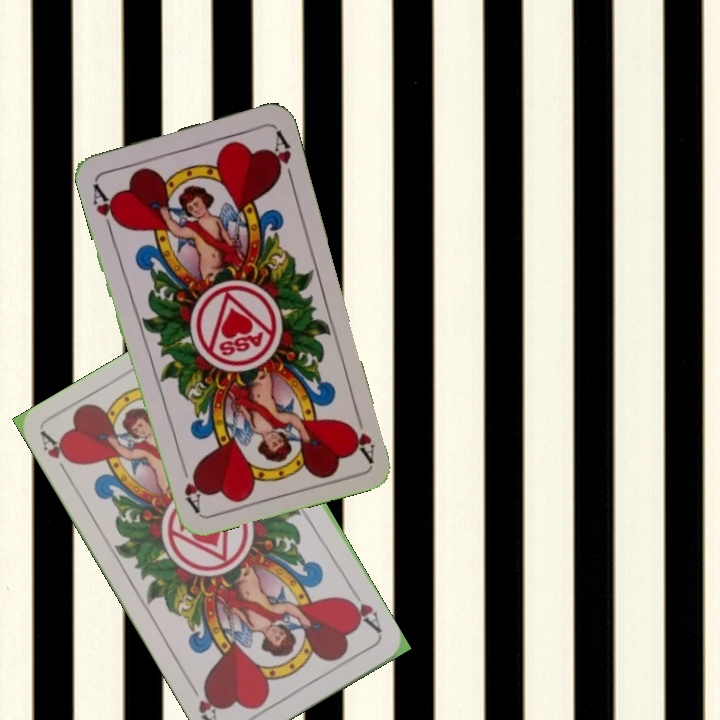HA: (341, 584, 385, 637), (36, 428, 78, 483), (343, 405, 378, 464), (88, 177, 123, 235)
